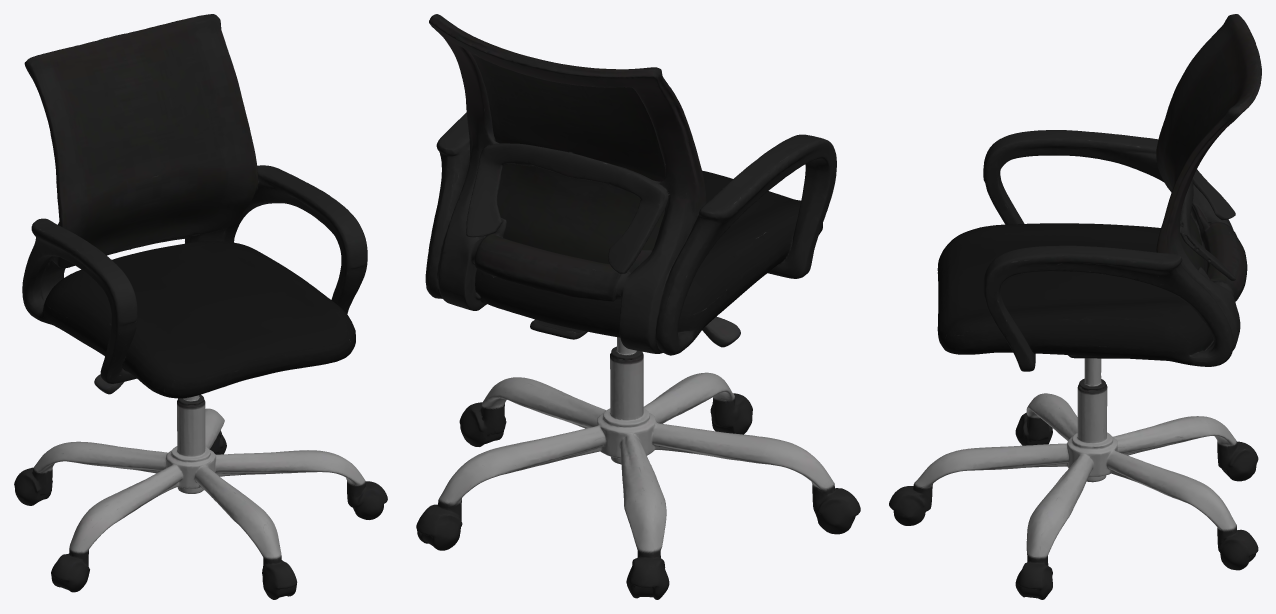
File: 14_黑网背镀铬转椅.glb
3 views of the same model, side by side, from view 1: azimuth 30°, elevation 25°; view 2: azimuth 150°, elevation 25°; view 3: azimuth 270°, elevation 25° (orthographic). The views are drawn at different scales.
Parts seen in each view (by area): view 1: world; view 2: world; view 3: world.
Part boxes in pixels (left/top/right/bottom): world: left=14, top=14, right=387, bottom=599; world: left=416, top=14, right=860, bottom=599; world: left=889, top=14, right=1261, bottom=599.
Size of the model in its own units: 0.7857 by 1 by 0.7367.
Materials: 1 (1 with a texture image).
